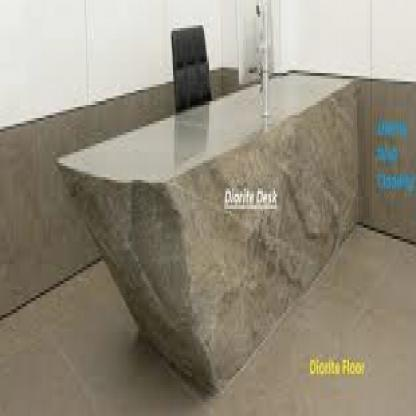Igneous_Diorite: (51, 70, 366, 385)
